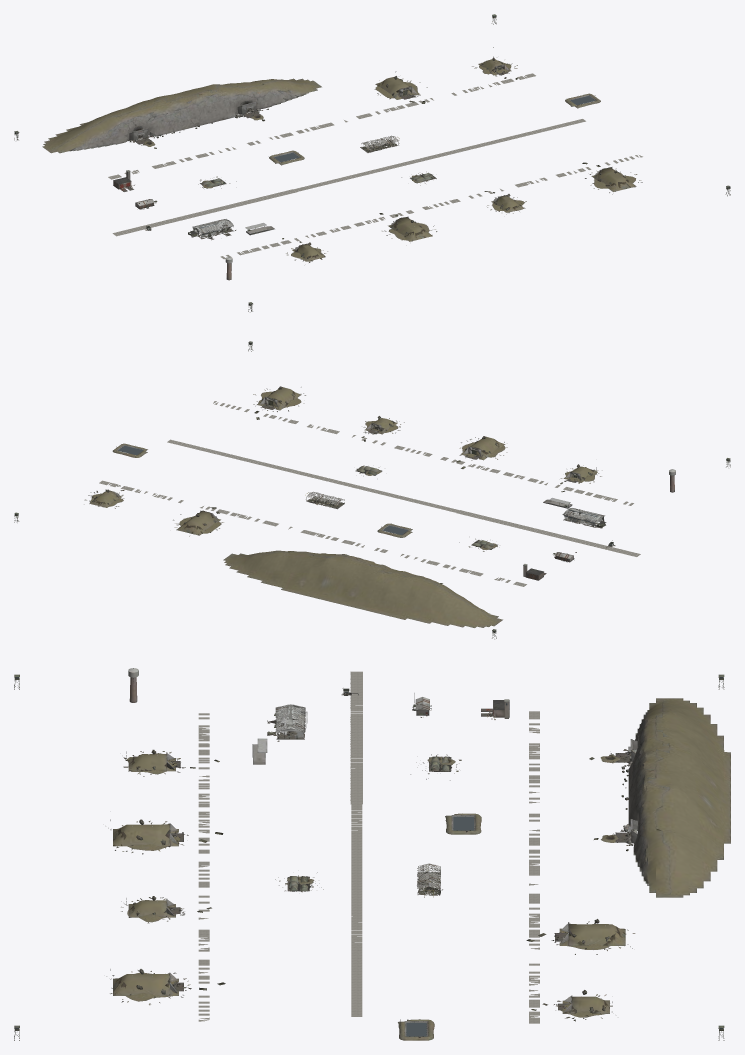
Rendered from site_ammo_w_lo.glb.
3 views of the same model, one above another, from view 1: azimuth 30°, elevation 25°; view 2: azimuth 150°, elevation 25°; view 3: azimuth 270°, elevation 25° (orthographic). The views are drawn at different scales.
Parts seen in each view (by area): view 1: deco_knoll|A_A, deco_roads|tile_conc, b_mag1|A_A; view 2: deco_knoll|A_A, deco_roads|tile_conc, b_mag6|A_A, b_mag4|A_A; view 3: deco_knoll|A_A, deco_roads|tile_conc, b_mag6|A_A, b_mag4|A_A, b_mag1|A_A, b_shop|A_A, b_shop_ruin|A_B, b_mag5|A_A, b_mag2|A_A, b_mag3|A_A, b_mag1_ruin|A_B, b_mag4_ruin|A_B (+2 smaller).
Boxes of the visible parts, box(x1,y1,x2,y2) form: deco_knoll|A_A: box(42, 78, 321, 153); deco_roads|tile_conc: box(108, 73, 642, 259); b_mag1|A_A: box(375, 71, 419, 99); deco_knoll|A_A: box(223, 550, 502, 627); deco_roads|tile_conc: box(99, 401, 640, 586); b_mag6|A_A: box(257, 386, 301, 410); b_mag4|A_A: box(463, 436, 504, 459); deco_knoll|A_A: box(621, 698, 730, 897); deco_roads|tile_conc: box(198, 671, 539, 1023); b_mag6|A_A: box(110, 969, 183, 995); b_mag4|A_A: box(110, 819, 183, 846); b_mag1|A_A: box(555, 919, 628, 945); b_shop|A_A: box(267, 704, 307, 739); b_shop_ruin|A_B: box(267, 704, 305, 741); b_mag5|A_A: box(126, 896, 180, 917); b_mag2|A_A: box(558, 990, 612, 1013); b_mag3|A_A: box(126, 749, 180, 771); b_mag1_ruin|A_B: box(526, 921, 635, 954); b_mag4_ruin|A_B: box(108, 820, 223, 854).
Bounding box in the file's own units: 556 × 27.81 × 456.
Materials: 54 (40 with a texture image).
